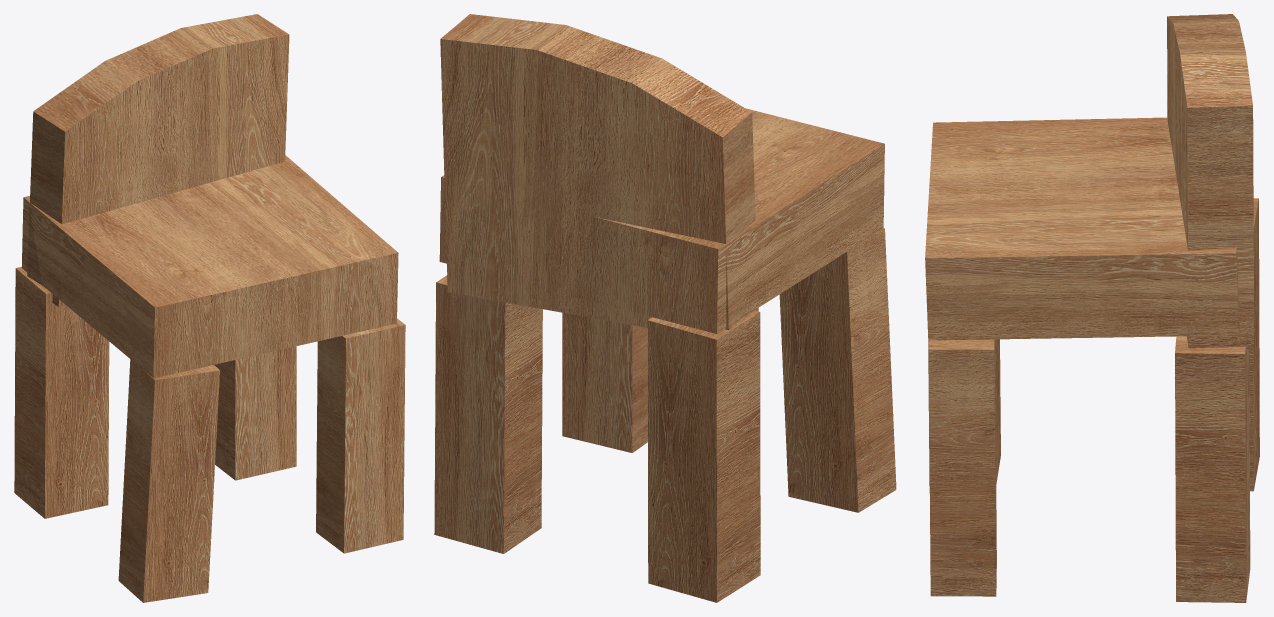
File: 40984_ours.glb
The picture shows the model from 3 angles, left to right: view 1: azimuth 30°, elevation 25°; view 2: azimuth 150°, elevation 25°; view 3: azimuth 270°, elevation 25°; orthographic projection. The views are drawn at different scales.
Parts seen in each view (by area): view 1: ParentEmpty; view 2: ParentEmpty; view 3: ParentEmpty.
Boxes of the visible parts, <box> form: ParentEmpty: <box>14,14,405,602</box>; ParentEmpty: <box>434,14,896,602</box>; ParentEmpty: <box>925,14,1259,602</box>.
Bounding box in the file's own units: 0.624 × 1 × 0.6041.
1 material, 1 textured.
